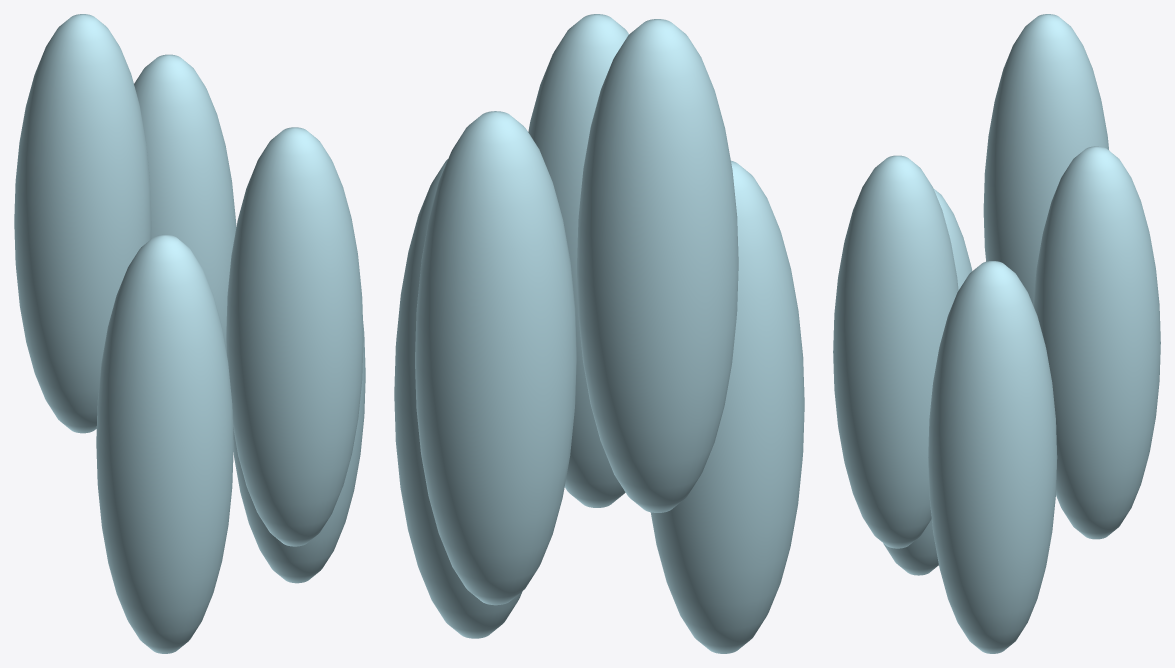
The model's file is crystal.glb.
3 views of the same model, side by side, from view 1: azimuth 30°, elevation 25°; view 2: azimuth 150°, elevation 25°; view 3: azimuth 270°, elevation 25° (orthographic). The views are drawn at different scales.
Parts seen in each view (by area): view 1: c3, c4, c2, c1, c0; view 2: c2, c1, c3, c4, c0; view 3: c0, c1, c4, c2, c3.
Part boxes in pixels (<box>): c3: <box>96,234,233,653</box>; c4: <box>226,127,363,546</box>; c2: <box>14,14,151,433</box>; c1: <box>134,54,236,351</box>; c0: <box>233,321,365,583</box>; c2: <box>577,19,738,512</box>; c1: <box>415,111,576,605</box>; c3: <box>650,160,804,653</box>; c4: <box>528,14,628,507</box>; c0: <box>394,159,522,638</box>; c0: <box>928,261,1057,653</box>; c1: <box>1033,146,1160,539</box>; c4: <box>833,155,958,548</box>; c2: <box>983,14,1109,304</box>; c3: <box>883,188,972,575</box>.
Bounding box in the file's own units: 0.0917 × 0.17 × 0.0914.
